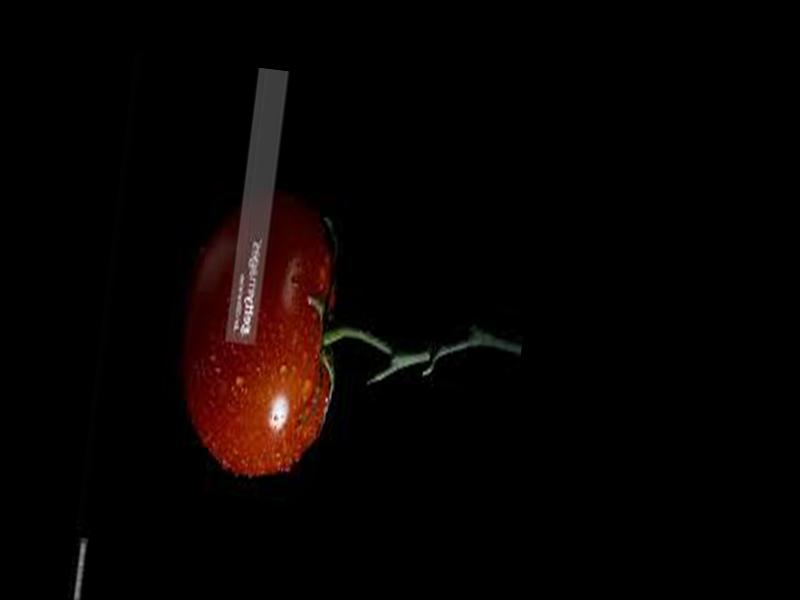Tomato: (172, 194, 350, 483)
